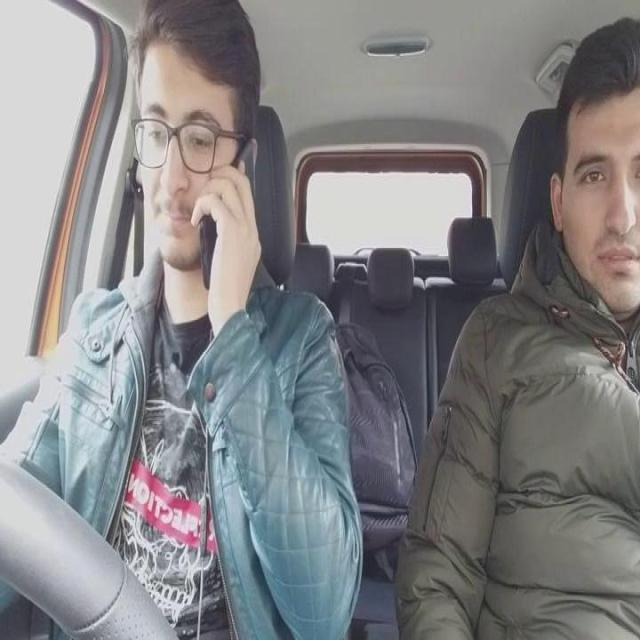phone: (198, 138, 260, 290)
